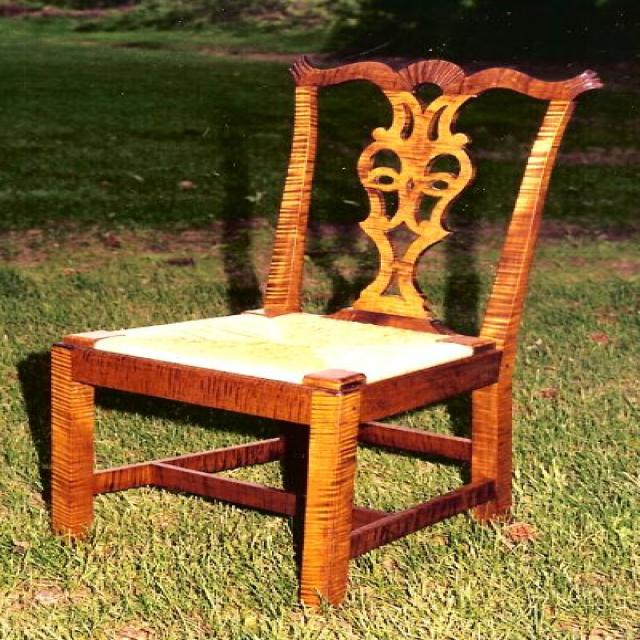chair: (46, 52, 604, 613)
